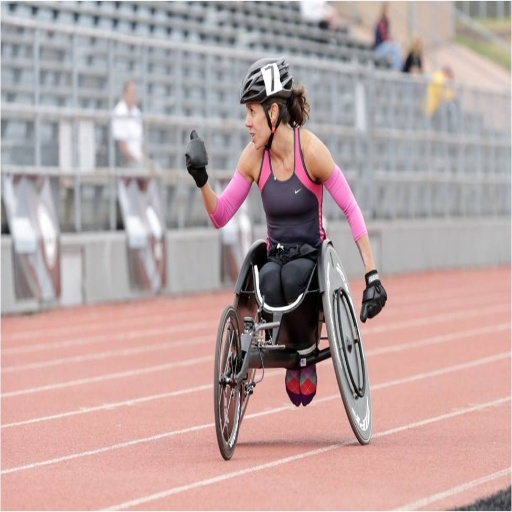hand: (178, 121, 210, 185), (357, 279, 388, 324)
